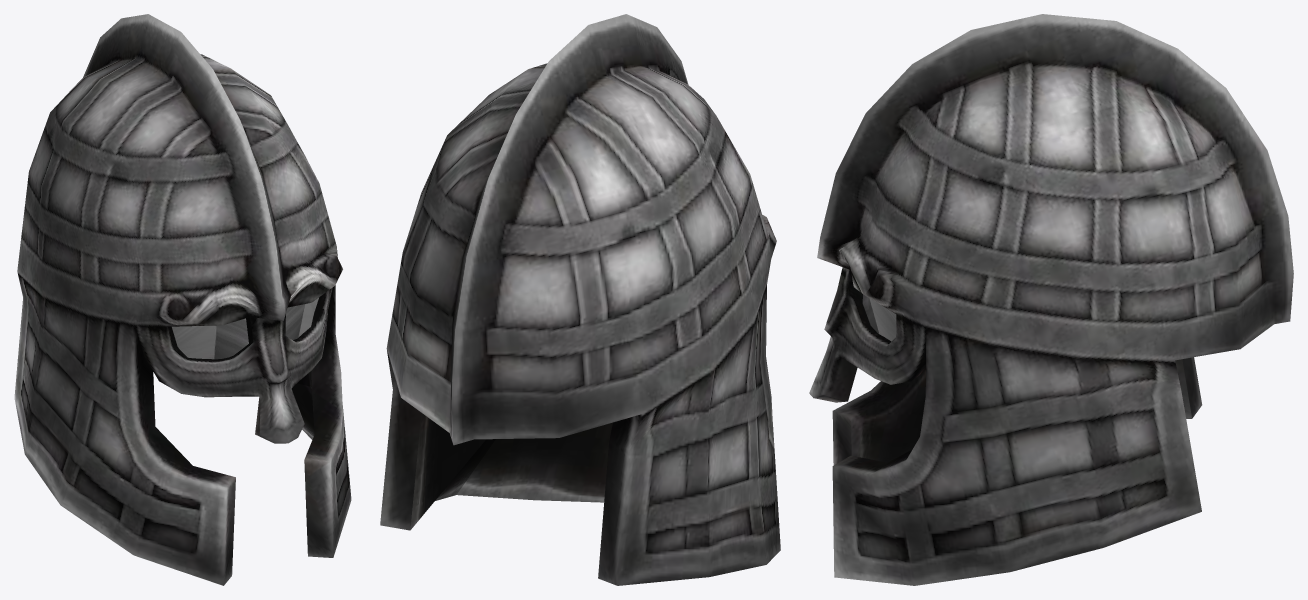
Rendered from armor-championinfantry.glb.
The picture shows the model from 3 angles, left to right: view 1: azimuth 30°, elevation 25°; view 2: azimuth 150°, elevation 25°; view 3: azimuth 270°, elevation 25°; orthographic projection. The views are drawn at different scales.
Size of the model in its own units: 0.2605 by 0.4239 by 0.3497.
Materials: 1 (1 with a texture image).
